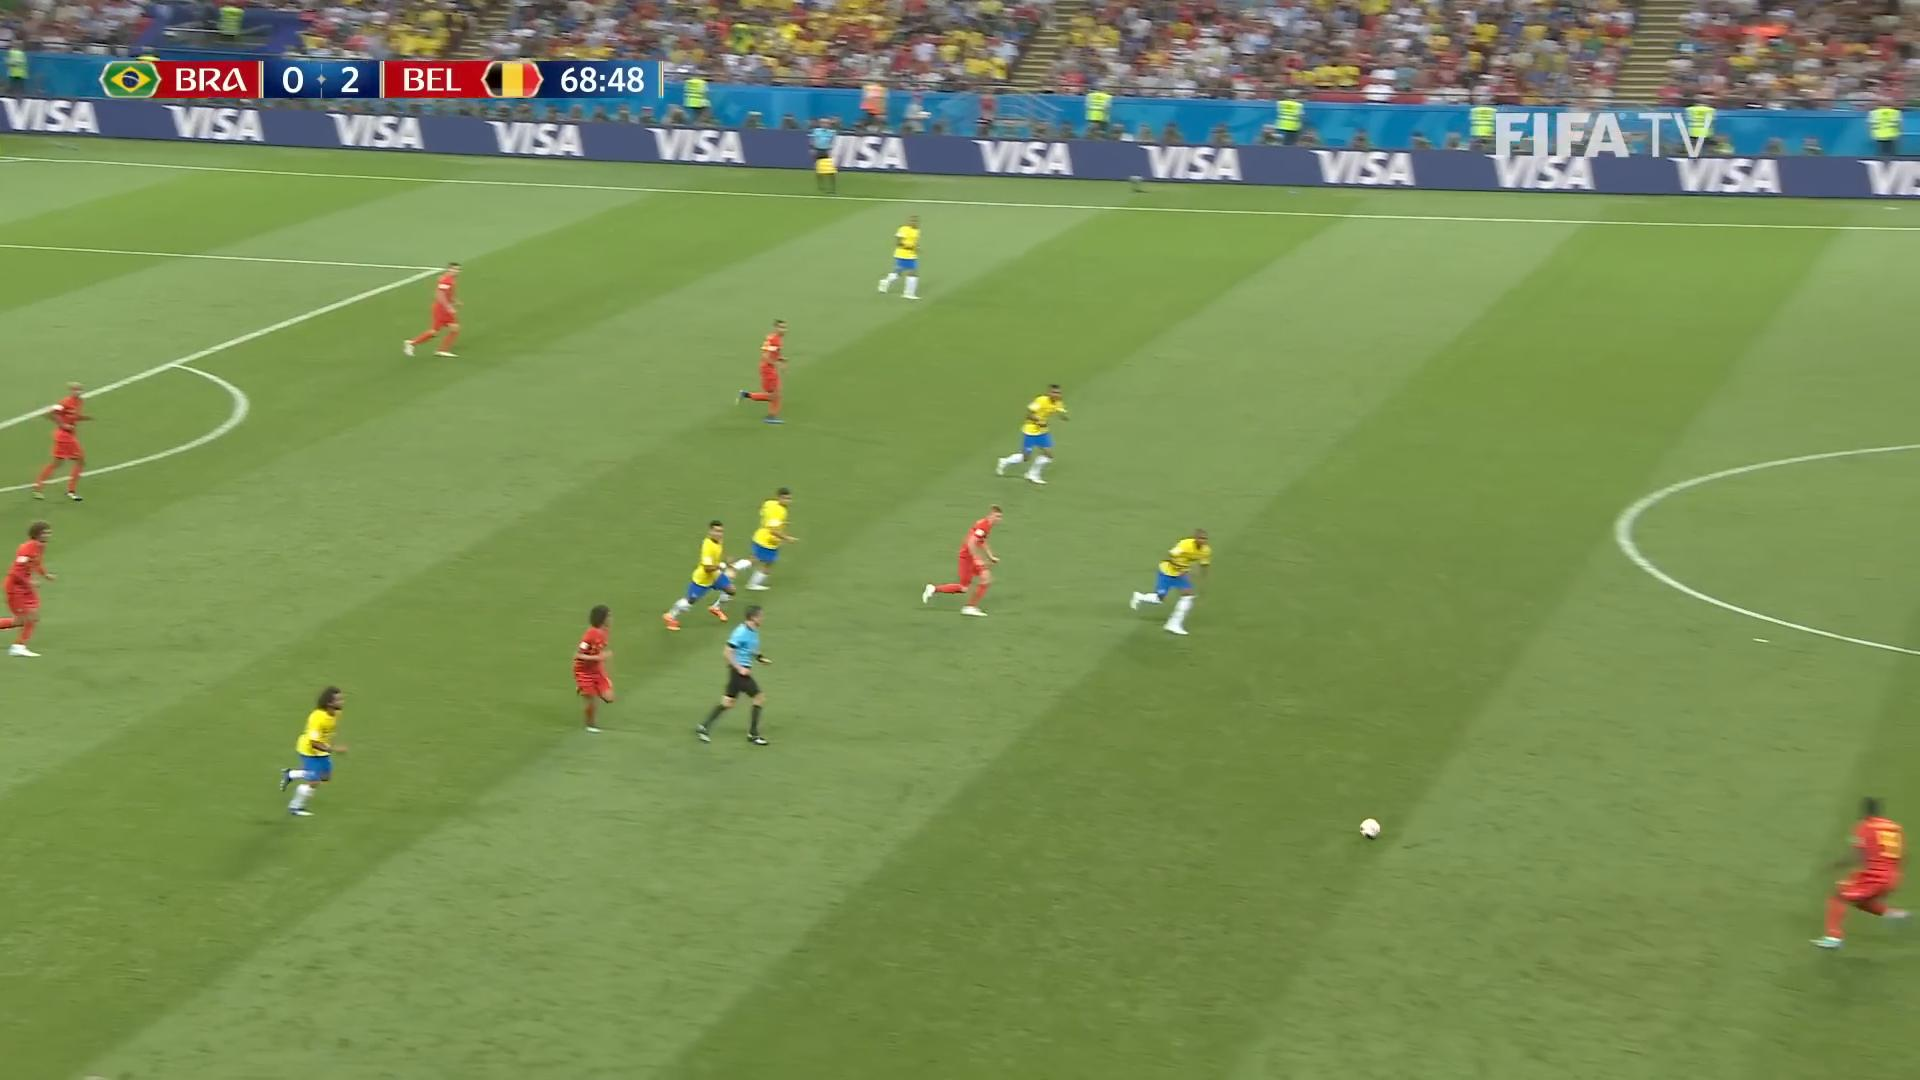ball: (1359, 817, 1381, 841)
player: (1808, 793, 1912, 949), (920, 503, 1004, 617), (278, 684, 349, 817), (1128, 526, 1212, 635), (660, 519, 739, 630), (994, 382, 1070, 484), (0, 519, 56, 657), (30, 380, 92, 502), (740, 485, 799, 590), (402, 260, 463, 358), (734, 318, 790, 424), (571, 603, 615, 732), (875, 212, 922, 300)
referee: (695, 603, 772, 746)
